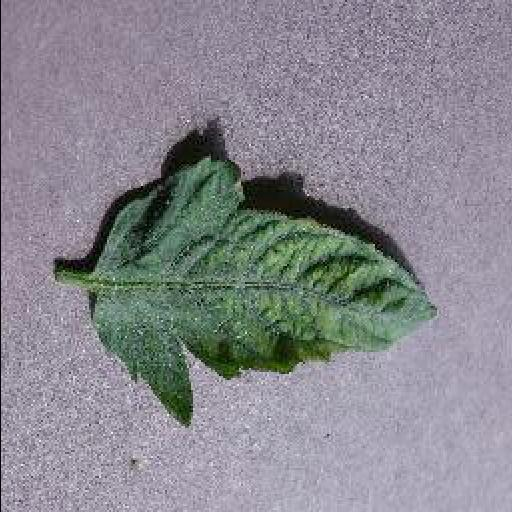disease_tomato: (86, 154, 436, 432)
